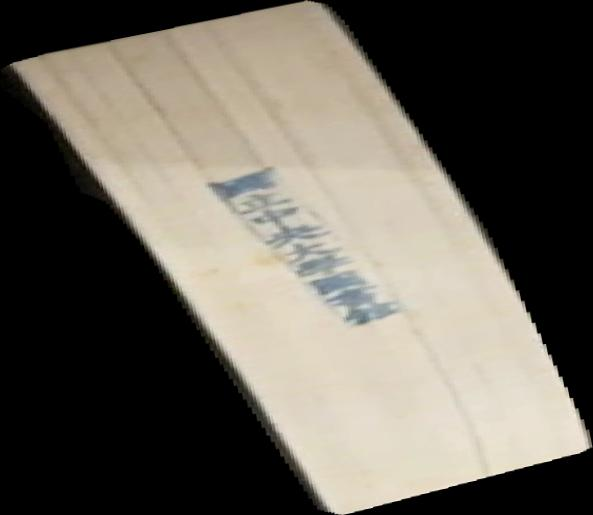backward: (1, 1, 593, 515)
